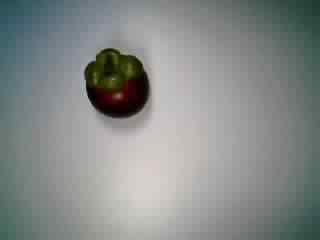mangosteen: (74, 45, 152, 121)
